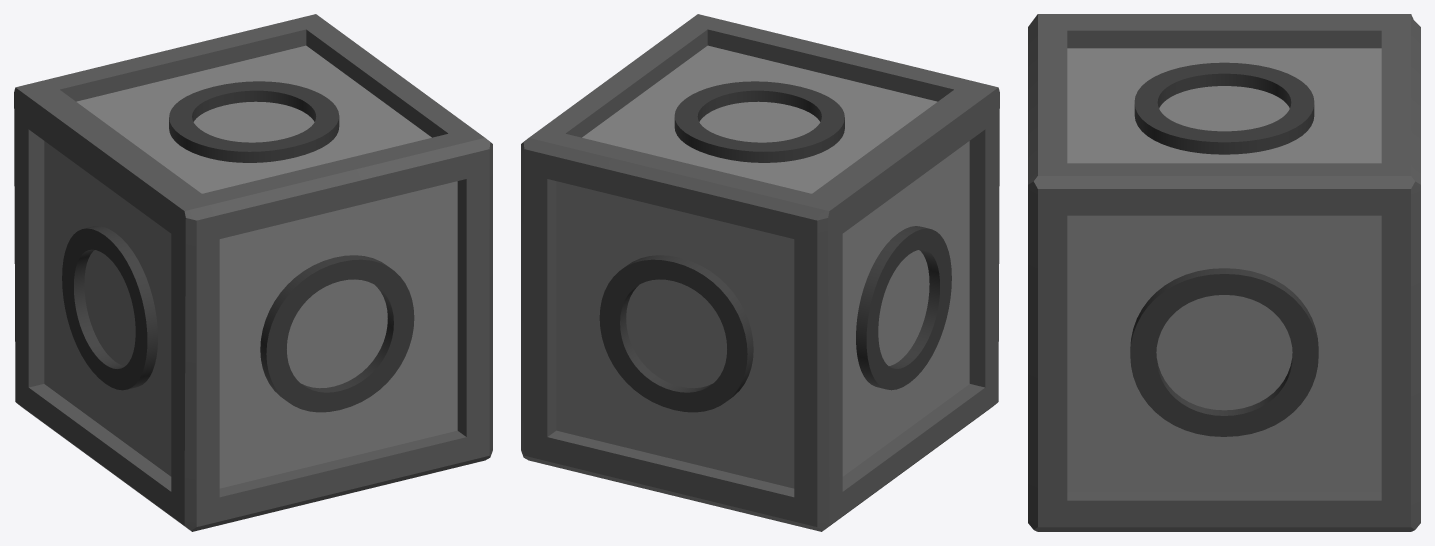
File: Oxygen.fbx
3 views of the same model, side by side, from view 1: azimuth 30°, elevation 25°; view 2: azimuth 150°, elevation 25°; view 3: azimuth 270°, elevation 25° (orthographic). The views are drawn at different scales.
Visible parts, largest first — view 1: Cube.015; view 2: Cube.015; view 3: Cube.015.
Boxes of the visible parts, <box> form: Cube.015: <box>14,14,492,531</box>; Cube.015: <box>521,14,999,531</box>; Cube.015: <box>1028,14,1420,531</box>.
Size of the model in its own units: 84.32 by 84.32 by 84.32.
